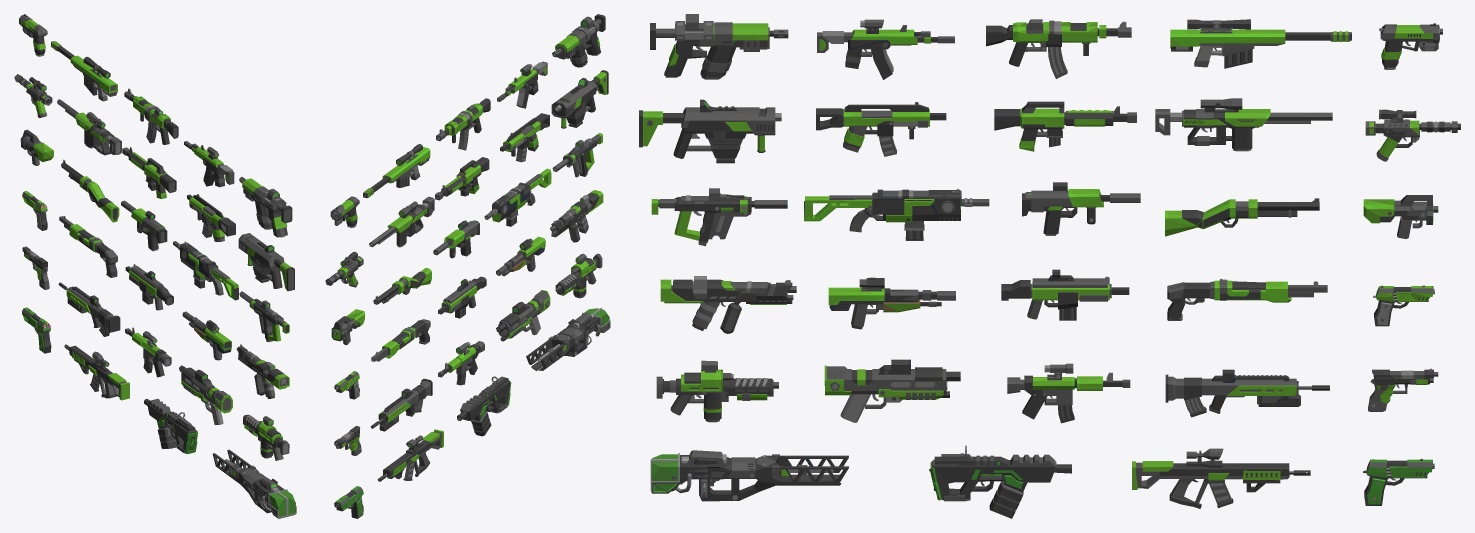
File: low_poly_weapons.glb
3 renders of one model, left to right at view 1: azimuth 30°, elevation 25°; view 2: azimuth 150°, elevation 25°; view 3: azimuth 270°, elevation 25°, orthographic. The views are drawn at different scales.
Visible parts, largest first — view 1: sniper_0, fusil_2, fusil_1, fusil_3, fusil_5, fusil_6, sniper_1, fusil_4, fusil_7, subfusil_9, subfusil_4, subfusil_3 (+17 smaller); view 2: sniper_0, fusil_2, fusil_1, fusil_3, fusil_5, fusil_6, fusil_4, sniper_1, fusil_7, subfusil_9, flamethrower, subfusil_4 (+17 smaller); view 3: sniper_0, fusil_3, fusil_2, fusil_1, fusil_5, fusil_4, fusil_6, sniper_1, fusil_7, flamethrower, subfusil_9, subfusil_4 (+17 smaller).
Boxes of the visible parts, <box> form: sniper_0: <box>212,449,296,518</box>; fusil_2: <box>238,233,294,291</box>; fusil_1: <box>239,176,292,237</box>; fusil_3: <box>173,241,238,300</box>; fusil_5: <box>144,398,197,453</box>; fusil_6: <box>64,344,129,400</box>; sniper_1: <box>57,99,121,155</box>; fusil_4: <box>179,365,232,424</box>; fusil_7: <box>58,282,120,332</box>; subfusil_9: <box>243,414,289,460</box>; subfusil_4: <box>122,147,176,198</box>; subfusil_3: <box>187,194,235,241</box>; sniper_0: <box>526,308,610,370</box>; fusil_2: <box>551,70,608,124</box>; fusil_1: <box>552,14,605,66</box>; fusil_3: <box>484,168,551,222</box>; fusil_5: <box>457,377,511,420</box>; fusil_6: <box>377,429,443,481</box>; fusil_4: <box>496,290,550,341</box>; sniper_1: <box>369,196,434,247</box>; fusil_7: <box>371,378,432,431</box>; subfusil_9: <box>555,253,602,296</box>; flamethrower: <box>550,190,603,237</box>; subfusil_4: <box>435,157,489,200</box>; sniper_0: <box>650,453,848,501</box>; fusil_3: <box>804,189,989,232</box>; fusil_2: <box>639,107,781,158</box>; fusil_1: <box>650,21,788,77</box>; fusil_5: <box>929,454,1071,501</box>; fusil_4: <box>824,365,960,422</box>; fusil_6: <box>1132,461,1310,508</box>; sniper_1: <box>1155,109,1332,149</box>; fusil_7: <box>1165,374,1329,413</box>; flamethrower: <box>660,279,796,329</box>; subfusil_9: <box>656,369,778,420</box>; subfusil_4: <box>994,101,1136,151</box>.
Size of the model in its own units: 0.7764 by 10.22 by 15.17.
1 material, 1 textured.
